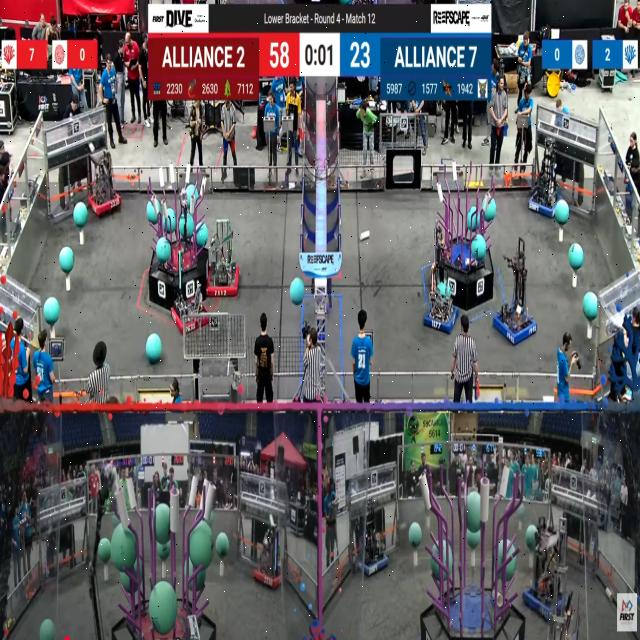Robot-YfA7: (522, 514, 578, 624), (493, 234, 534, 346), (527, 130, 563, 214), (355, 508, 395, 581), (204, 218, 240, 298), (89, 141, 123, 218), (170, 280, 210, 336), (423, 272, 457, 336), (251, 524, 283, 590)
